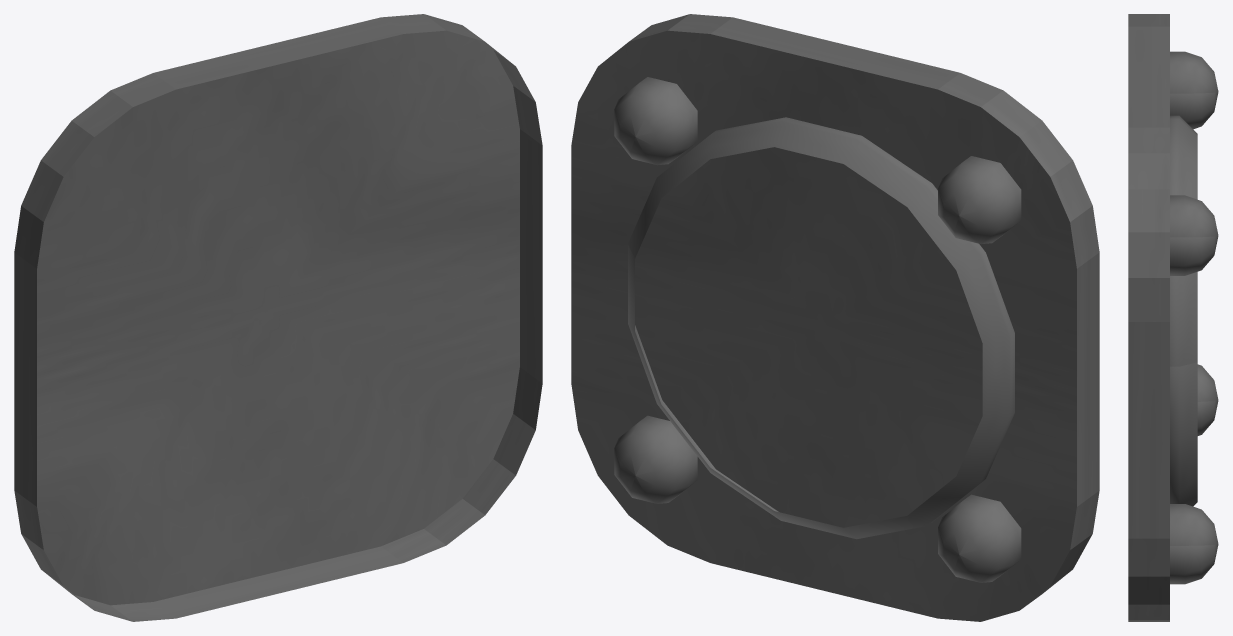
File: polebase_impact_squircle.obj
3 views of the same model, side by side, from view 1: azimuth 30°, elevation 25°; view 2: azimuth 150°, elevation 25°; view 3: azimuth 270°, elevation 25° (orthographic). The views are drawn at different scales.
Parts seen in each view (by area): view 1: polebase_impact_squircle; view 2: polebase_impact_squircle; view 3: polebase_impact_squircle.
Boxes of the visible parts, x1,y1,x2,y2 form: polebase_impact_squircle: [14, 14, 542, 621]; polebase_impact_squircle: [571, 14, 1099, 621]; polebase_impact_squircle: [1128, 14, 1218, 621].
Size of the model in its own units: 1.43 by 1.43 by 0.2431.
